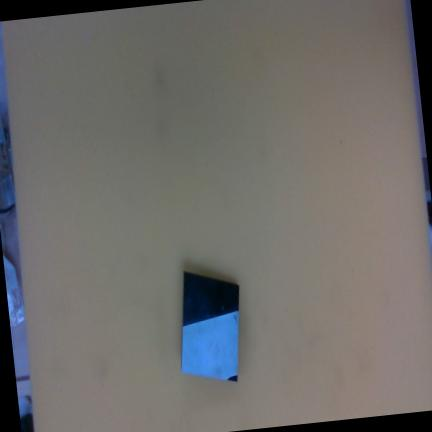tile: (182, 274, 240, 383)
